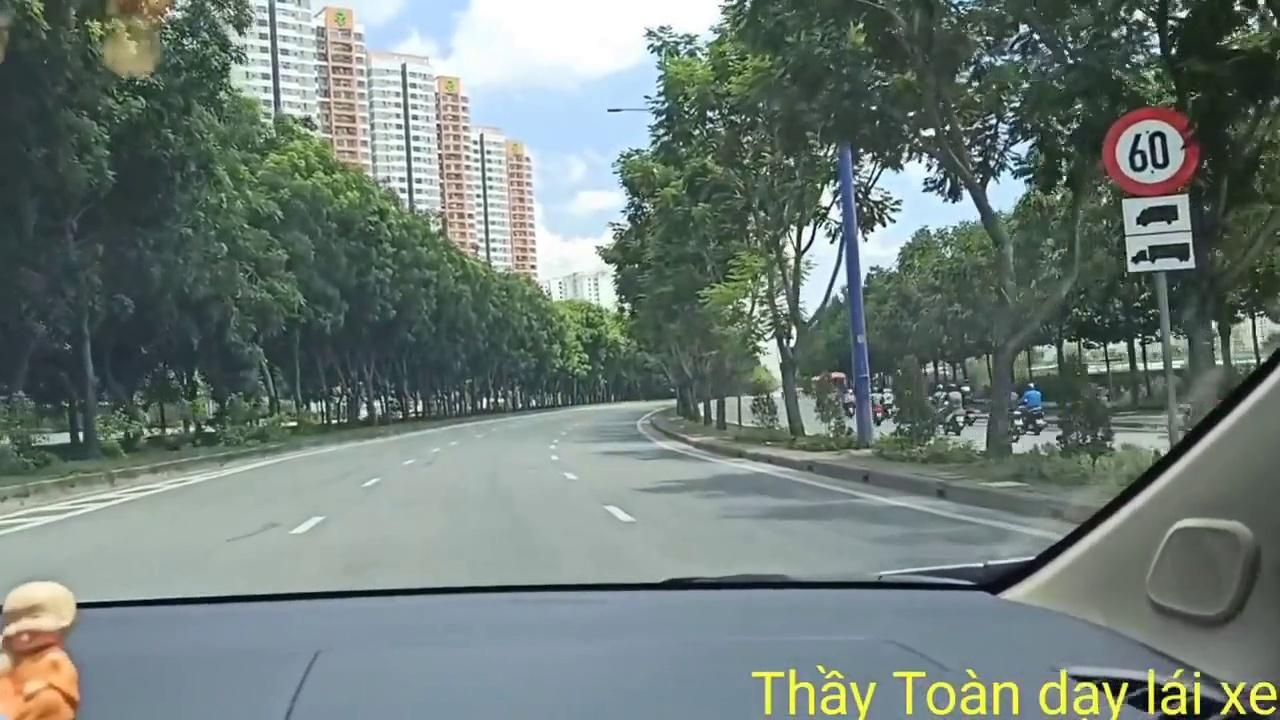Biển phụ: (1117, 198, 1196, 270)
GIơi hạn tốc độ 60Km/h: (1102, 101, 1201, 196)
